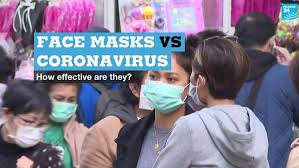mask: (3, 80, 50, 151), (186, 44, 232, 108), (45, 78, 87, 131), (143, 68, 188, 115)
